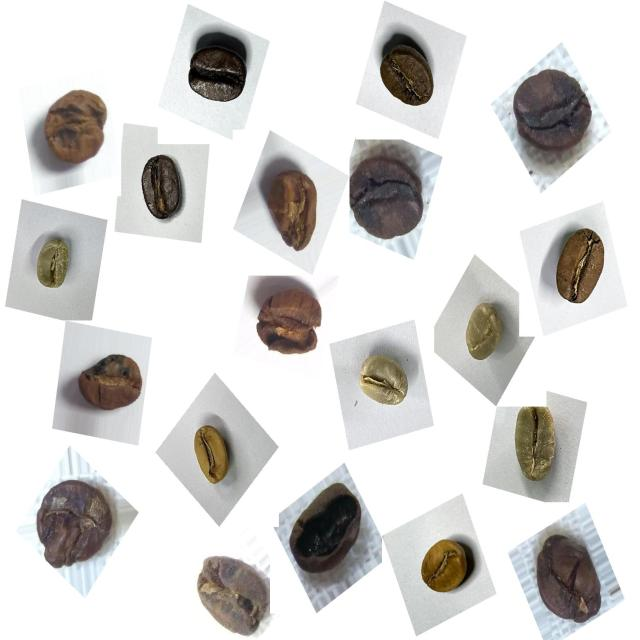bad: (26, 465, 123, 580), (282, 472, 372, 590), (506, 58, 602, 168), (344, 142, 436, 252), (524, 522, 614, 634), (185, 540, 275, 639), (32, 77, 118, 178), (249, 273, 334, 373), (252, 154, 330, 259), (72, 342, 154, 429)
dark: (179, 23, 257, 117), (126, 148, 195, 236)
green: (500, 401, 570, 496), (349, 341, 419, 422), (454, 291, 515, 376), (26, 228, 82, 304)
light: (409, 528, 478, 608), (184, 415, 241, 494)
medium: (541, 217, 617, 319), (370, 31, 447, 120)
